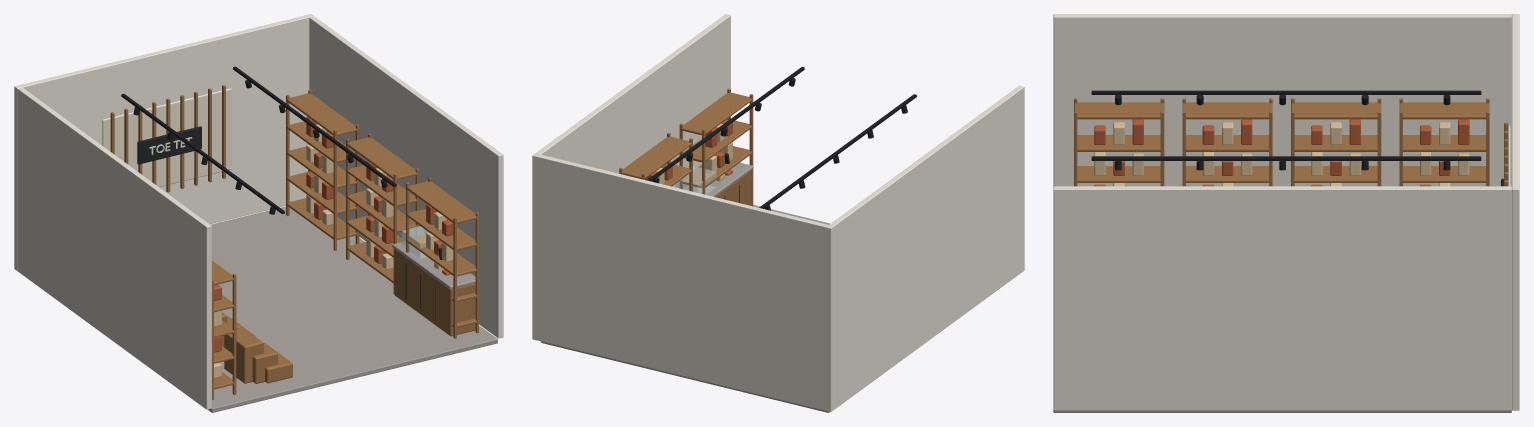
The model's file is TOE_TET_REFINED_V1_1.glb.
3 views of the same model, side by side, from view 1: azimuth 30°, elevation 25°; view 2: azimuth 150°, elevation 25°; view 3: azimuth 270°, elevation 25° (orthographic). The views are drawn at different scales.
Parts seen in each view (by area): view 1: WALL_LEFT, FLOOR_MICROCEMENT_5238x6000, WALL_REAR, WALL_RIGHT, BRAND_WASHI_PANEL, CHECKOUT_OAK_CARCASS, P1_TIER_3, S5_SHELF_5, S7_SHELF_5, S6_SHELF_5, BRAND_SIGN_BACKPLATE, CHECKOUT_MICROCEMENT_TOP (+19 smaller); view 2: WALL_REAR, WALL_LEFT, WALL_RIGHT, S5_SHELF_5, S6_SHELF_5, TRACK_RAIL_-1.0, TRACK_RAIL_+1.0, S5_SHELF_3, FLOOR_MICROCEMENT_5238x6000, S5_SHELF_4, CHECKOUT_OAK_CARCASS, CHECKOUT_MICROCEMENT_TOP (+1 smaller); view 3: WALL_RIGHT, WALL_LEFT, WALL_REAR, TRACK_RAIL_+1.0, TRACK_RAIL_-1.0, S1_SHELF_5, S3_SHELF_5, S2_SHELF_5, S4_SHELF_5, FLOOR_MICROCEMENT_5238x6000, S1_SHELF_3, S3_SHELF_4 (+6 smaller).
Boxes of the visible parts, box(x1,y1,x2,y2) form: WALL_LEFT: box(17, 87, 211, 409); FLOOR_MICROCEMENT_5238x6000: box(208, 206, 497, 412); WALL_REAR: box(14, 14, 313, 270); WALL_RIGHT: box(309, 16, 503, 338); BRAND_WASHI_PANEL: box(102, 88, 231, 186); CHECKOUT_OAK_CARCASS: box(394, 249, 475, 336); P1_TIER_3: box(224, 327, 263, 383); S5_SHELF_5: box(407, 181, 477, 223); S7_SHELF_5: box(286, 93, 358, 135); S6_SHELF_5: box(347, 137, 418, 179); BRAND_SIGN_BACKPLATE: box(137, 126, 201, 164); CHECKOUT_MICROCEMENT_TOP: box(392, 241, 479, 289); WALL_REAR: box(532, 153, 833, 411); WALL_LEFT: box(829, 85, 1024, 409); WALL_RIGHT: box(536, 14, 730, 187); S5_SHELF_5: box(680, 92, 752, 135); S6_SHELF_5: box(621, 136, 691, 179); TRACK_RAIL_-1.0: box(759, 94, 916, 208); TRACK_RAIL_+1.0: box(647, 67, 804, 181); S5_SHELF_3: box(681, 146, 752, 188); FLOOR_MICROCEMENT_5238x6000: box(541, 205, 829, 412); S5_SHELF_4: box(683, 120, 752, 162); CHECKOUT_OAK_CARCASS: box(715, 171, 751, 205); CHECKOUT_MICROCEMENT_TOP: box(683, 162, 753, 196); WALL_RIGHT: box(1053, 186, 1511, 410); WALL_LEFT: box(1053, 14, 1511, 186); WALL_REAR: box(1512, 14, 1519, 410); TRACK_RAIL_+1.0: box(1091, 156, 1481, 160); TRACK_RAIL_-1.0: box(1091, 90, 1481, 94); S1_SHELF_5: box(1074, 102, 1164, 119); S3_SHELF_5: box(1291, 102, 1381, 119); S2_SHELF_5: box(1182, 102, 1272, 119); S4_SHELF_5: box(1399, 102, 1489, 119); FLOOR_MICROCEMENT_5238x6000: box(1053, 410, 1511, 412); S1_SHELF_3: box(1075, 166, 1163, 182); S3_SHELF_4: box(1292, 135, 1380, 151).
Size of the model in its own units: 5.44 by 3.28 by 6.1.
